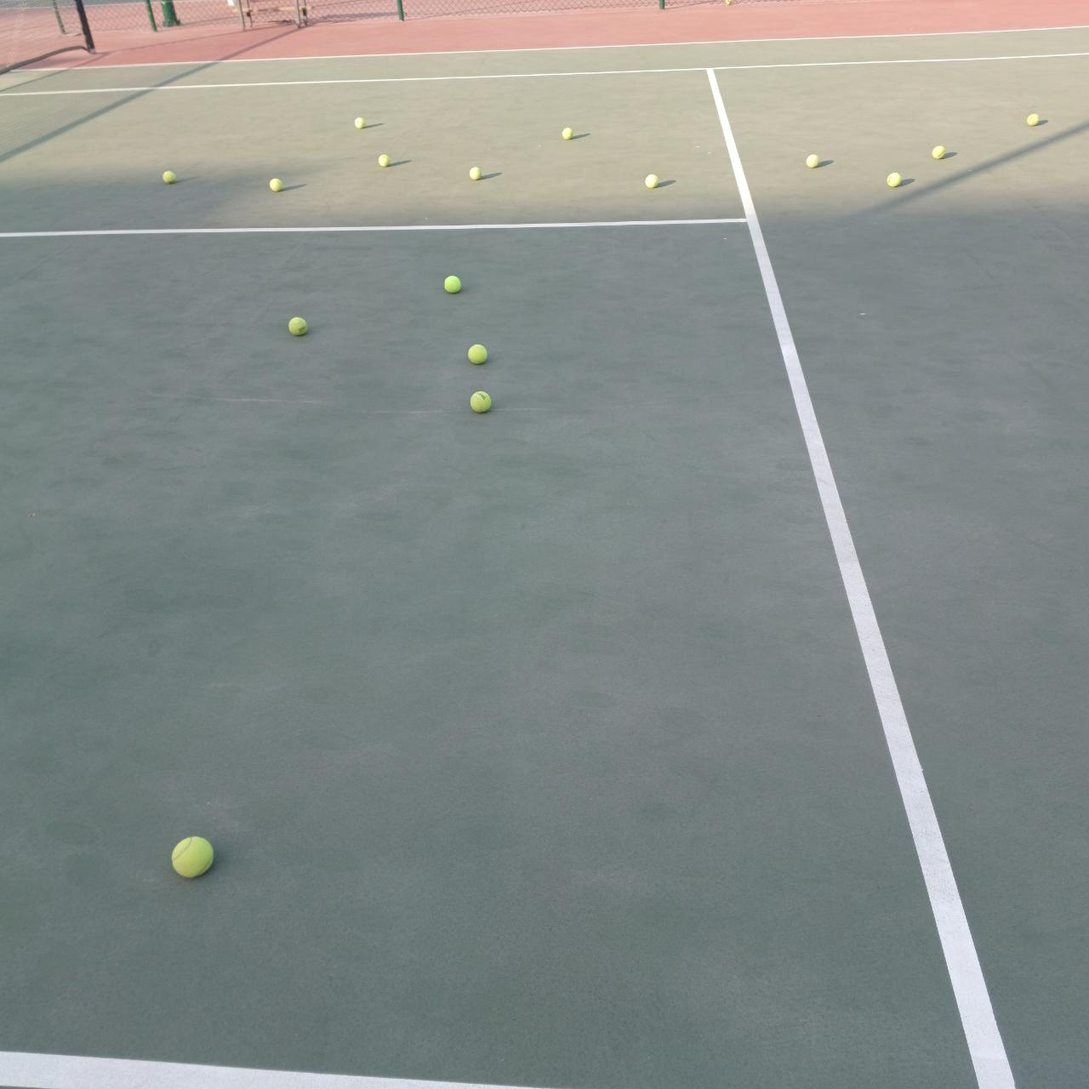tennis-ball: (170, 833, 214, 879), (468, 389, 492, 413), (466, 341, 487, 364), (287, 314, 308, 335), (442, 272, 461, 293), (885, 171, 901, 187), (643, 172, 659, 188), (930, 143, 945, 159), (268, 177, 283, 192), (161, 168, 175, 183), (805, 152, 818, 168), (561, 125, 573, 140), (1026, 113, 1039, 126), (469, 166, 481, 179), (353, 117, 365, 129), (378, 154, 389, 167)
